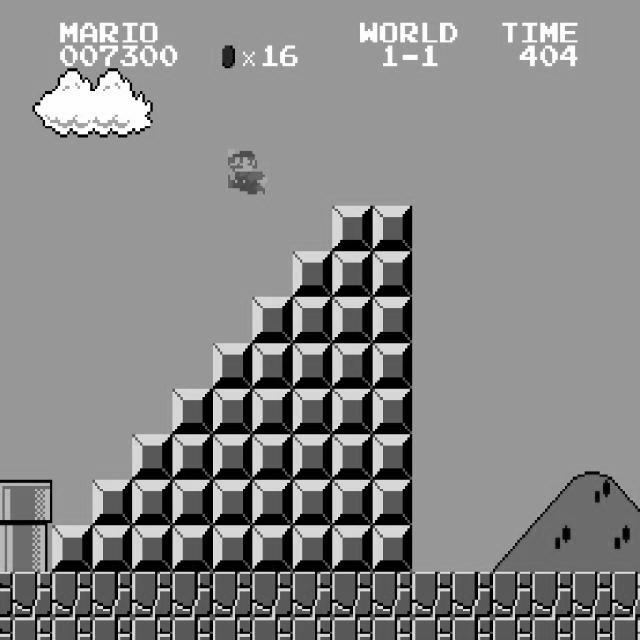11- little_mario: (225, 146, 268, 194)
14- pipe: (12, 526, 53, 572), (0, 526, 13, 572)
15- pipe_head: (12, 480, 53, 526), (0, 480, 13, 526)
17- undestructible_block: (12, 572, 53, 618), (52, 572, 93, 618), (92, 572, 133, 618), (132, 572, 173, 618), (172, 572, 213, 618), (212, 572, 253, 618), (252, 572, 293, 618), (292, 572, 333, 618), (332, 572, 373, 618), (372, 572, 413, 618), (412, 572, 453, 618), (452, 572, 493, 618), (492, 572, 533, 618), (532, 572, 573, 618), (572, 572, 613, 618), (612, 572, 640, 618), (12, 617, 53, 640), (52, 617, 93, 640), (92, 617, 133, 640), (132, 617, 173, 640), (172, 617, 213, 640), (212, 617, 253, 640), (252, 617, 293, 640), (292, 617, 333, 640), (332, 617, 373, 640), (372, 617, 413, 640), (412, 617, 453, 640), (452, 617, 493, 640), (492, 617, 533, 640), (532, 617, 573, 640), (572, 617, 613, 640), (612, 617, 640, 640), (0, 572, 13, 618), (0, 617, 13, 640)
9- hard_block: (52, 526, 93, 572), (92, 480, 133, 526), (92, 526, 133, 572), (132, 434, 173, 480), (132, 480, 173, 526), (132, 526, 173, 572), (172, 388, 213, 434), (172, 434, 213, 480), (172, 480, 213, 526), (172, 526, 213, 572), (212, 388, 253, 434), (212, 434, 253, 480), (212, 480, 253, 526), (212, 526, 253, 572), (252, 297, 293, 343), (252, 388, 293, 434), (252, 434, 293, 480), (252, 480, 293, 526), (252, 526, 293, 572), (292, 252, 333, 298), (292, 297, 333, 343), (292, 388, 333, 434), (292, 434, 333, 480), (292, 480, 333, 526), (292, 526, 333, 572), (332, 252, 373, 298), (332, 297, 373, 343), (332, 388, 373, 434), (332, 434, 373, 480), (332, 480, 373, 526), (332, 526, 373, 572), (372, 252, 413, 298), (372, 297, 413, 343), (372, 388, 413, 434), (372, 434, 413, 480), (372, 480, 413, 526), (372, 526, 413, 572), (212, 343, 253, 388), (252, 343, 293, 388), (292, 343, 333, 388), (332, 206, 373, 251), (332, 343, 373, 388), (372, 206, 413, 251), (372, 343, 413, 388)
